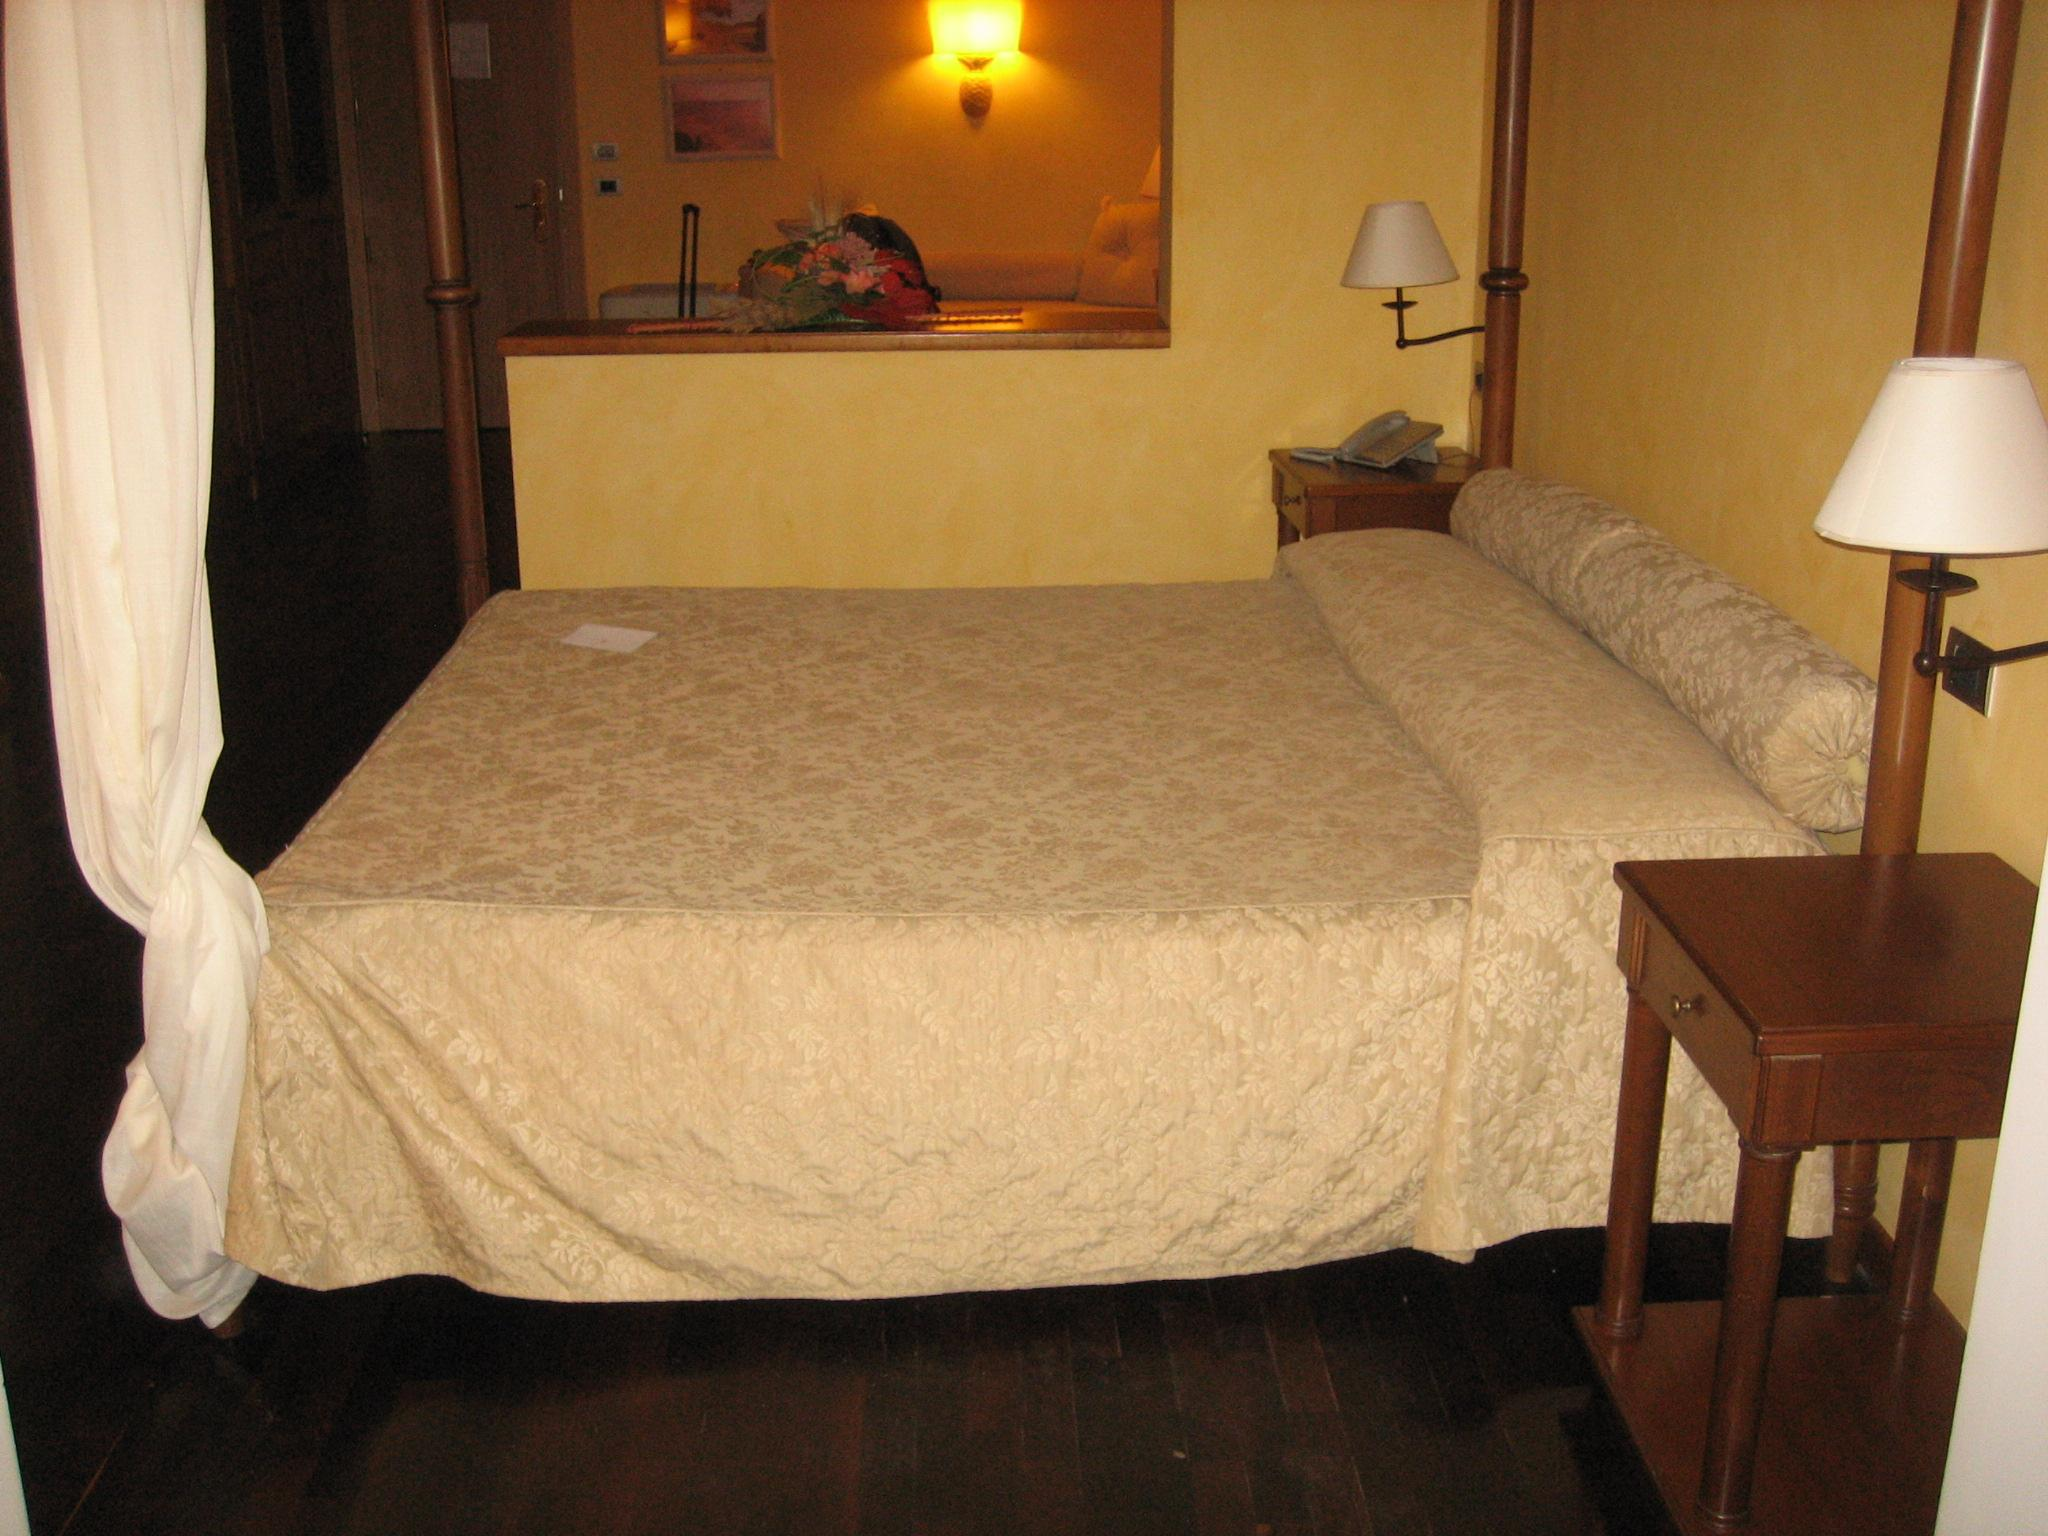Cama: (203, 466, 1896, 1317)
Puerta: (343, 15, 522, 416)
